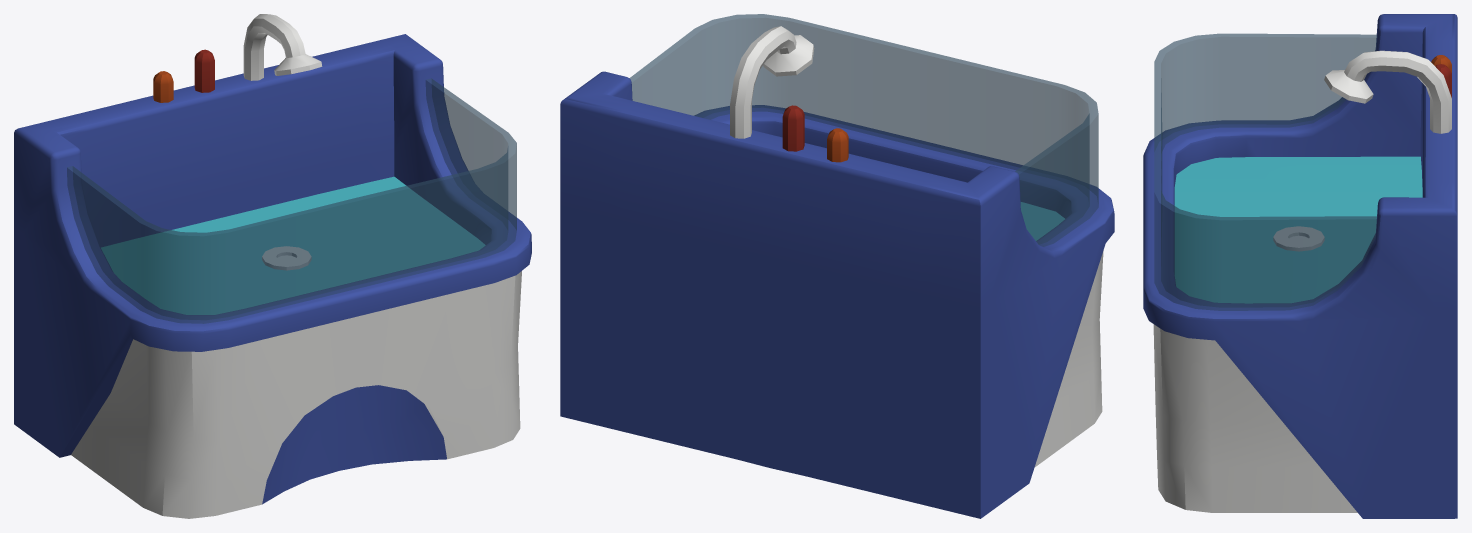
Rendered from SM_Props_Bathing_Counter.fbx.
The picture shows the model from 3 angles, left to right: view 1: azimuth 30°, elevation 25°; view 2: azimuth 150°, elevation 25°; view 3: azimuth 270°, elevation 25°; orthographic projection. The views are drawn at different scales.
Visible parts, largest first — view 1: SM_Props_Bathing_Counter; view 2: SM_Props_Bathing_Counter; view 3: SM_Props_Bathing_Counter.
Boxes of the visible parts, box(x1,y1,x2,y2) form: SM_Props_Bathing_Counter: box(14, 14, 531, 518); SM_Props_Bathing_Counter: box(560, 14, 1114, 518); SM_Props_Bathing_Counter: box(1143, 14, 1457, 518).
Bounding box in the file's own units: 0.7215 × 0.6547 × 0.4819.
Materials: 2 (1 with a texture image).
